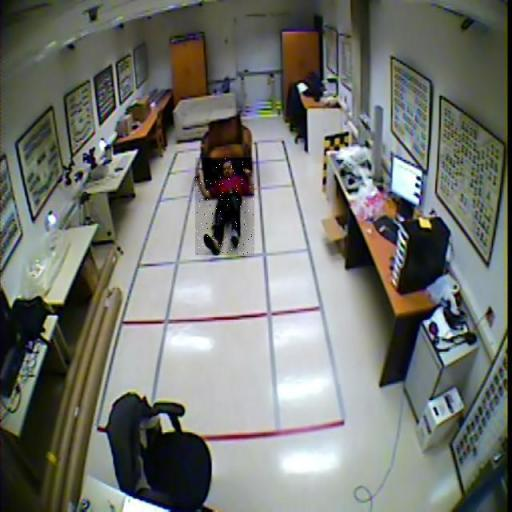Fall: (196, 158, 255, 255)
